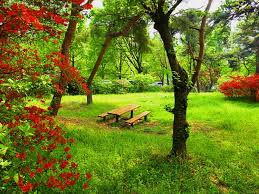flower: (1, 3, 83, 190)
forest: (3, 3, 256, 194)
tree: (119, 1, 203, 153)
